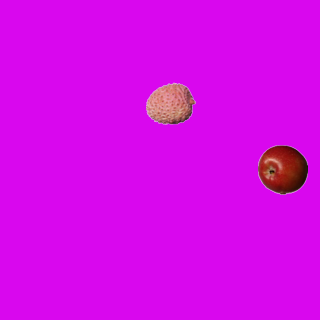Apple Braeburn: (257, 144, 307, 194)
Lychee: (145, 78, 195, 128)
